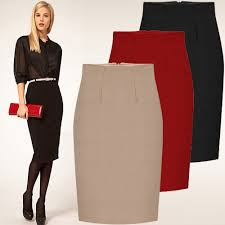C_skirt: (69, 60, 166, 225)
F_tailored skirt: (23, 79, 65, 165)
